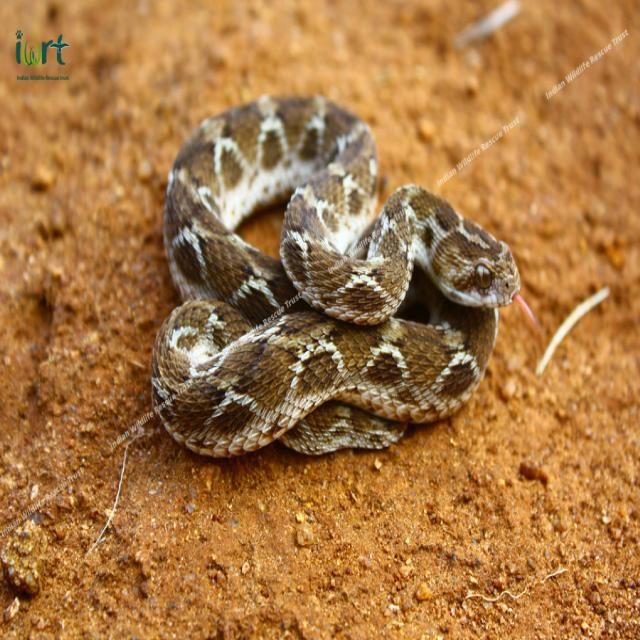Snake: (149, 90, 528, 458)
